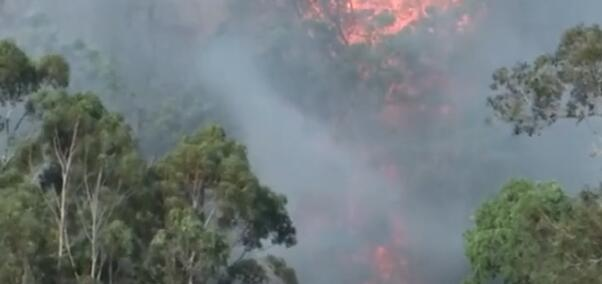fire: (299, 1, 470, 135)
smoke: (1, 2, 602, 184), (217, 0, 472, 279)
